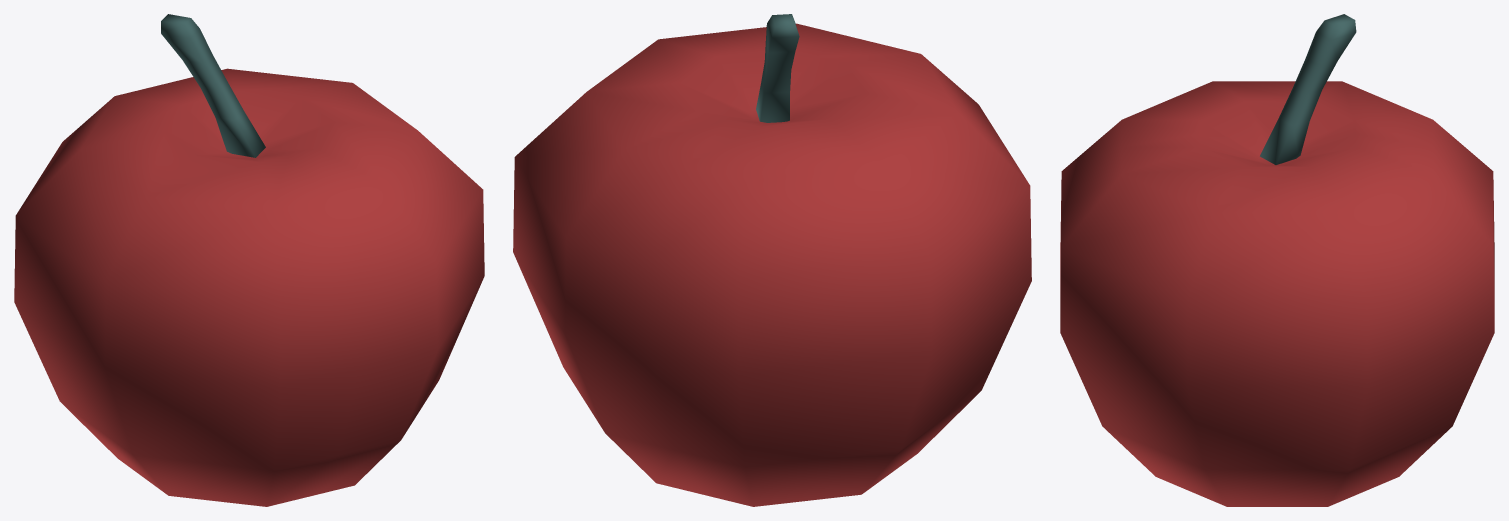
File: apple.fbx
3 renders of one model, left to right at view 1: azimuth 30°, elevation 25°; view 2: azimuth 150°, elevation 25°; view 3: azimuth 270°, elevation 25°, orthographic. The views are drawn at different scales.
Parts seen in each view (by area): view 1: Apple; view 2: Apple; view 3: Apple.
Boxes of the visible parts, bbox=[...] form: Apple: bbox=[14, 14, 484, 506]; Apple: bbox=[513, 14, 1031, 506]; Apple: bbox=[1060, 14, 1494, 506].
Bounding box in the file's own units: 0.6975 × 0.6975 × 0.7355.
